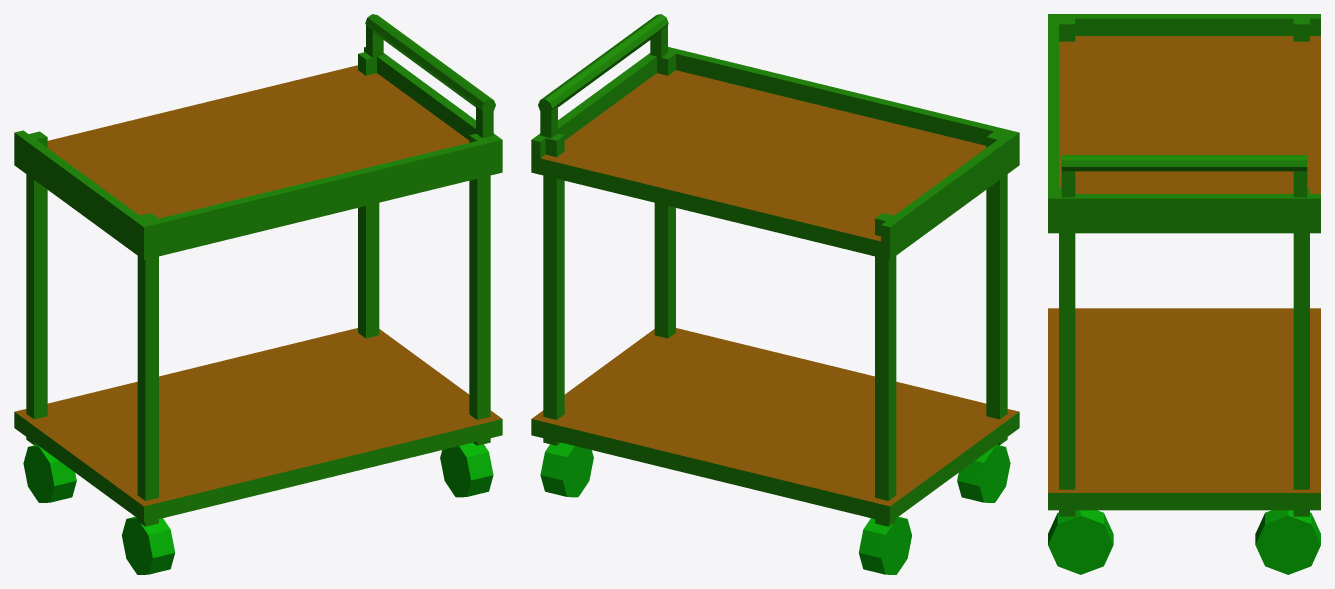
The model's file is SM_LSP_Cart.fbx.
3 views of the same model, side by side, from view 1: azimuth 30°, elevation 25°; view 2: azimuth 150°, elevation 25°; view 3: azimuth 270°, elevation 25° (orthographic). The views are drawn at different scales.
Parts seen in each view (by area): view 1: SM_LSP_Cart; view 2: SM_LSP_Cart; view 3: SM_LSP_Cart.
Boxes of the visible parts, left/top/right/bottom form: SM_LSP_Cart: left=14, top=14, right=502, bottom=574; SM_LSP_Cart: left=531, top=14, right=1019, bottom=574; SM_LSP_Cart: left=1048, top=14, right=1320, bottom=574.
Size of what is drawn, in the model's own units: 80 by 50 by 85.
